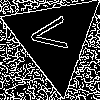V: (29, 14, 77, 55)
